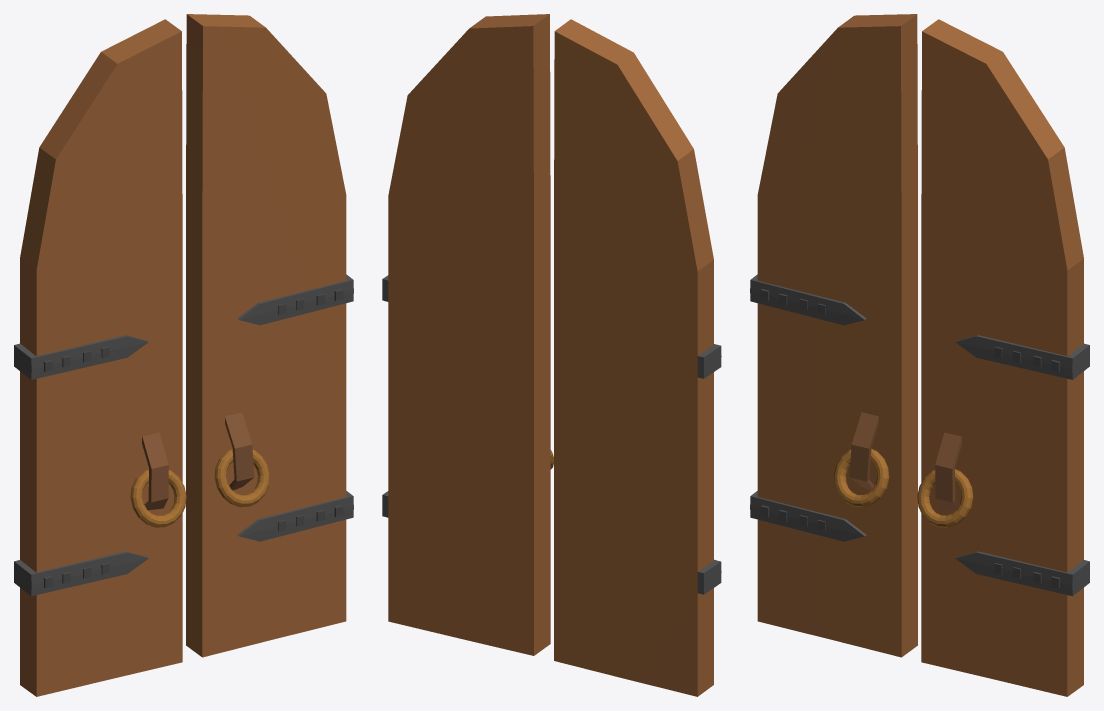
File: Gate3.fbx
3 renders of one model, left to right at view 1: azimuth 30°, elevation 25°; view 2: azimuth 150°, elevation 25°; view 3: azimuth 330°, elevation 25°, orthographic.
Parts seen in each view (by area): view 1: door wood+metall 1, door wood+metall 2; view 2: door wood+metall 2, door wood+metall 1; view 3: door wood+metall 2, door wood+metall 1.
Part boxes in pixels (box(x1,y1,x2,y2)): door wood+metall 1: box(14, 19, 186, 696); door wood+metall 2: box(186, 14, 353, 657); door wood+metall 2: box(382, 14, 553, 655); door wood+metall 1: box(554, 19, 721, 696); door wood+metall 2: box(917, 19, 1089, 696); door wood+metall 1: box(750, 14, 917, 657).
Bounding box in the file's own units: 1.04 × 1.94 × 0.1915.
